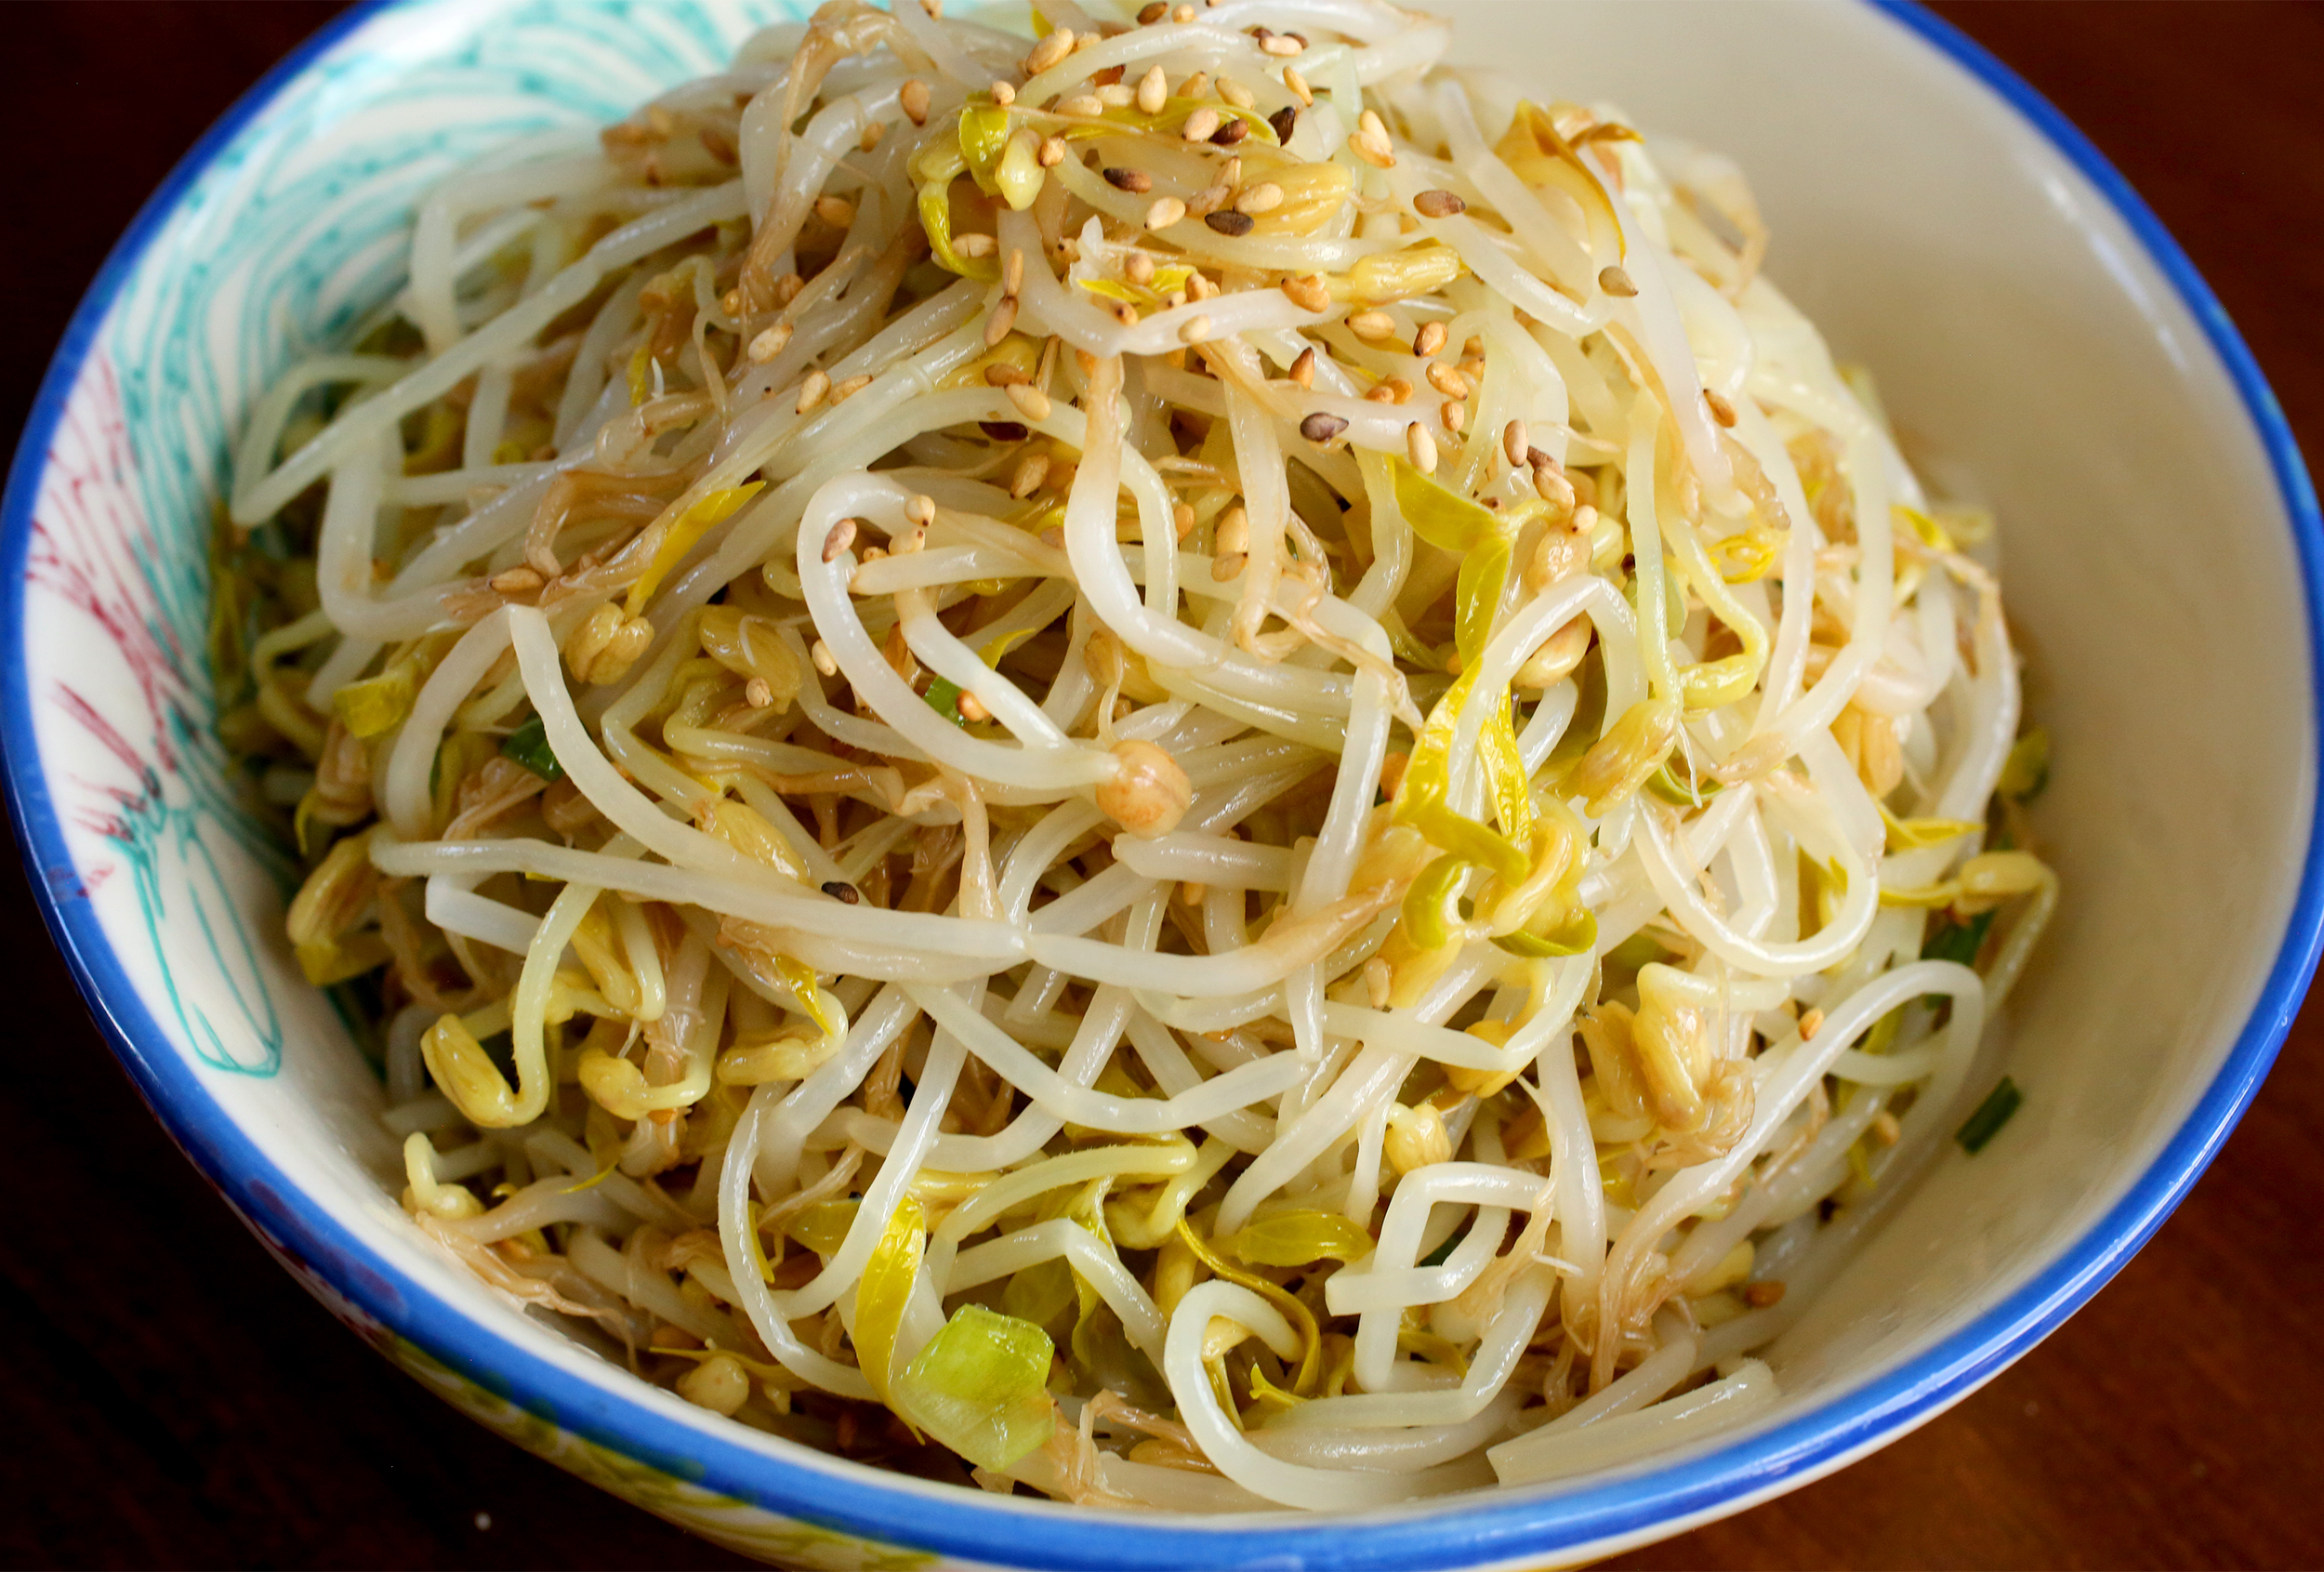mung_bean_sprouts: (586, 82, 1793, 1219)
